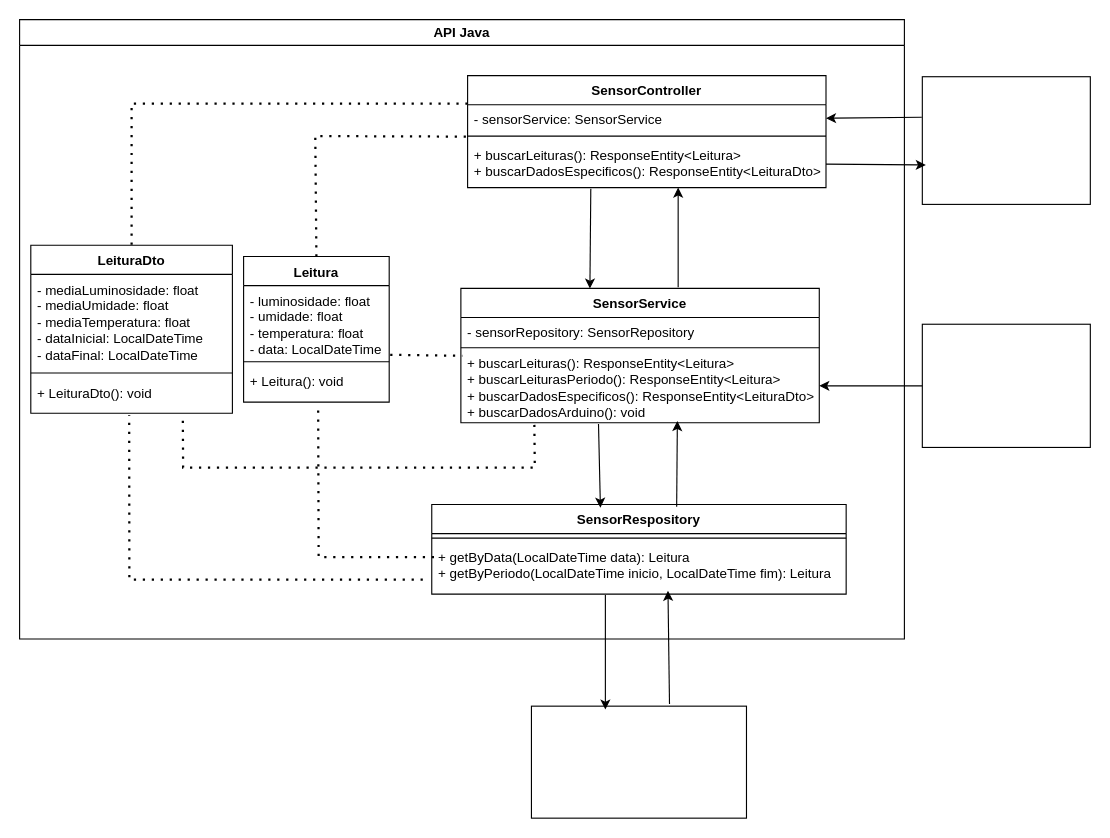
Image size: 1110x838. Some labels were removed from this diagram. Here are the shapes that lost their labels. From the top down, the centre of each, then its label:
the point at 1005,140: Interface gráfica
the point at 1005,385: Arduino
the point at 638,761: BANCO DE DADOS
